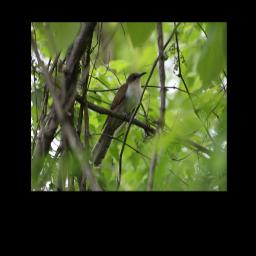Cuckoo: (89, 69, 148, 169)
